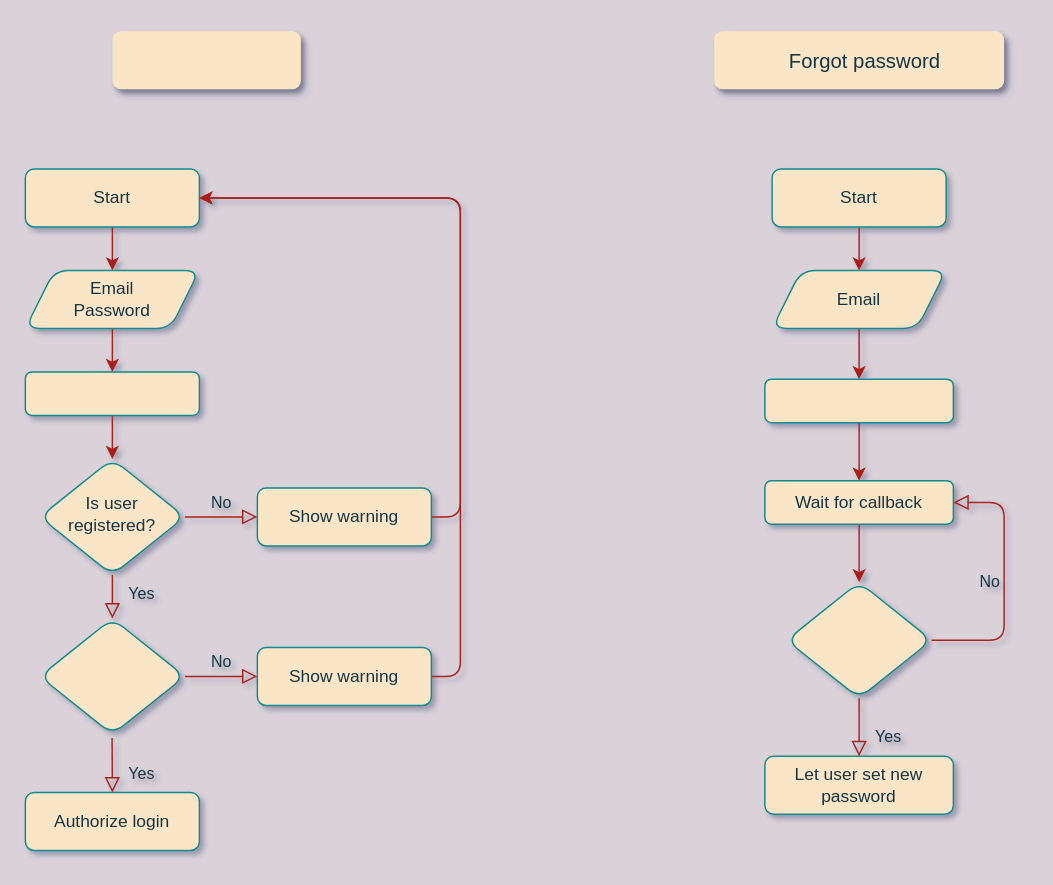
Some shapes in this 1053 by 885 pixel diagram are drawn without their labels. The shapes that lost their labels are listed below. From the top down, each one's centre as x and y in pixels, then its label:
At [207,62]: "Login".
At [111,392]: "Check credentials".
At [858,400]: "Send recovery email".
At [858,639]: "Callback received?".
At [111,675]: "Are user credentials correct?".
